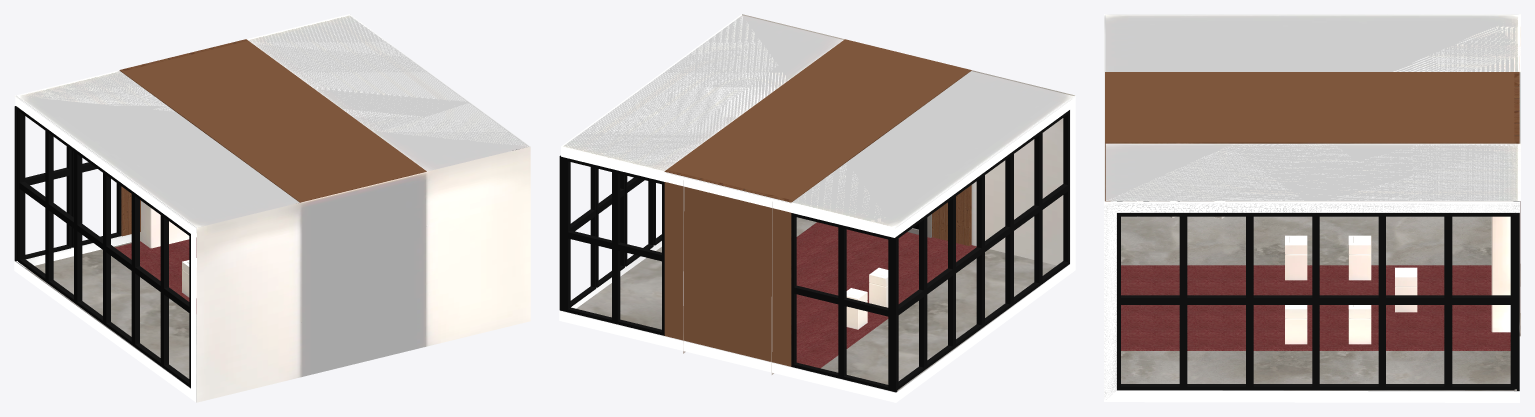
The model's file is room-transformed.glb.
3 views of the same model, side by side, from view 1: azimuth 30°, elevation 25°; view 2: azimuth 150°, elevation 25°; view 3: azimuth 270°, elevation 25° (orthographic). The views are drawn at different scales.
Visible parts, largest first — view 1: Wall_backwall_0, Ceiling_Ceiling_0, WoodWall_Material.001_0, WindowCill_Material.006_0, Floor_Material.002_0, Wall2_Walls_0, Rug_Material.003_0, Cube_Material.005_0; view 2: WoodWall_Material.001_0, Ceiling_Ceiling_0, WindowCill_Material.006_0, Wall2_Walls_0, Floor_Material.002_0, Rug_Material.003_0, Wall_backwall_0, Podium_Cube.027_Podiums_0; view 3: Ceiling_Ceiling_0, WoodWall_Material.001_0, Floor_Material.002_0, Rug_Material.003_0, WindowCill_Material.006_0, Wall2_Walls_0, Podium_Cube.027_Podiums_0, Cube_Material.005_0, Plane_roofthings_0.
Part boxes in pixels (x1,y1,x2,y2): Wall_backwall_0: [197, 146, 530, 402]; Ceiling_Ceiling_0: [14, 15, 528, 227]; WoodWall_Material.001_0: [119, 39, 426, 236]; WindowCill_Material.006_0: [14, 106, 516, 387]; Floor_Material.002_0: [25, 242, 196, 402]; Wall2_Walls_0: [14, 14, 530, 402]; Rug_Material.003_0: [115, 237, 196, 313]; Cube_Material.005_0: [140, 201, 196, 248]; WoodWall_Material.001_0: [664, 39, 971, 366]; Ceiling_Ceiling_0: [562, 15, 1075, 228]; WindowCill_Material.006_0: [559, 110, 1069, 392]; Wall2_Walls_0: [559, 14, 1075, 402]; Floor_Material.002_0: [576, 217, 1056, 390]; Rug_Material.003_0: [796, 222, 976, 368]; Wall_backwall_0: [742, 14, 1074, 265]; Podium_Cube.027_Podiums_0: [846, 267, 888, 329]; Ceiling_Ceiling_0: [1105, 14, 1520, 200]; WoodWall_Material.001_0: [1105, 72, 1519, 201]; Floor_Material.002_0: [1121, 216, 1516, 390]; Rug_Material.003_0: [1121, 265, 1510, 350]; WindowCill_Material.006_0: [1117, 201, 1519, 390]; Wall2_Walls_0: [1104, 14, 1519, 402]; Podium_Cube.027_Podiums_0: [1285, 235, 1417, 344]; Cube_Material.005_0: [1491, 201, 1520, 336]; Plane_roofthings_0: [1123, 201, 1512, 218].
Bounding box in the file's own units: 884 × 445 × 824.
14 materials, 3 textured.
